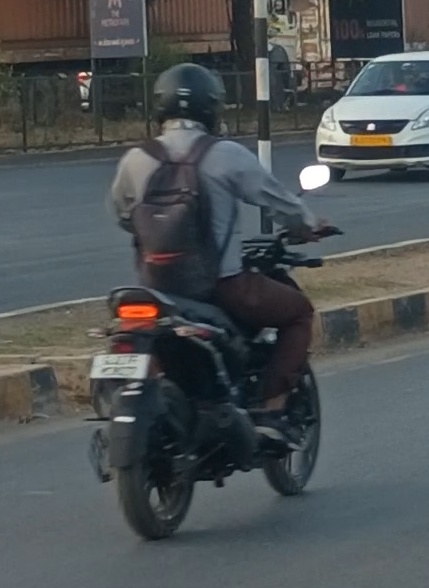BikeWithRider: (89, 58, 350, 542)
Helmet: (144, 62, 229, 136)
